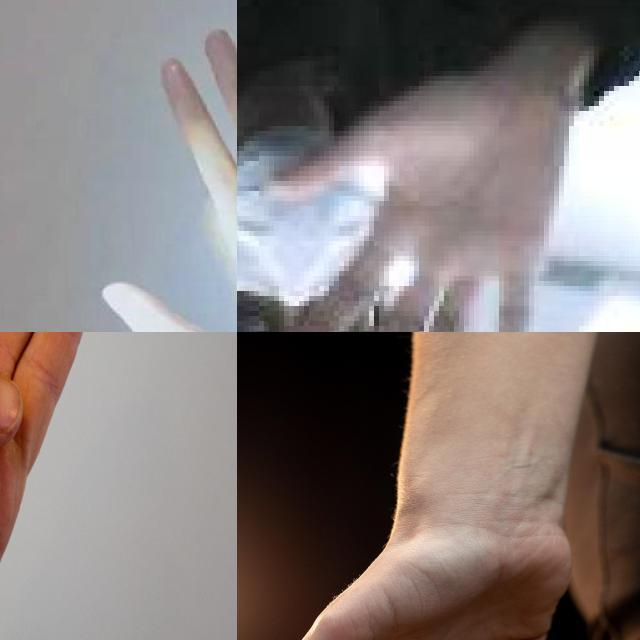hand: (264, 71, 579, 332), (76, 26, 237, 332), (237, 512, 609, 640), (0, 332, 99, 640)
